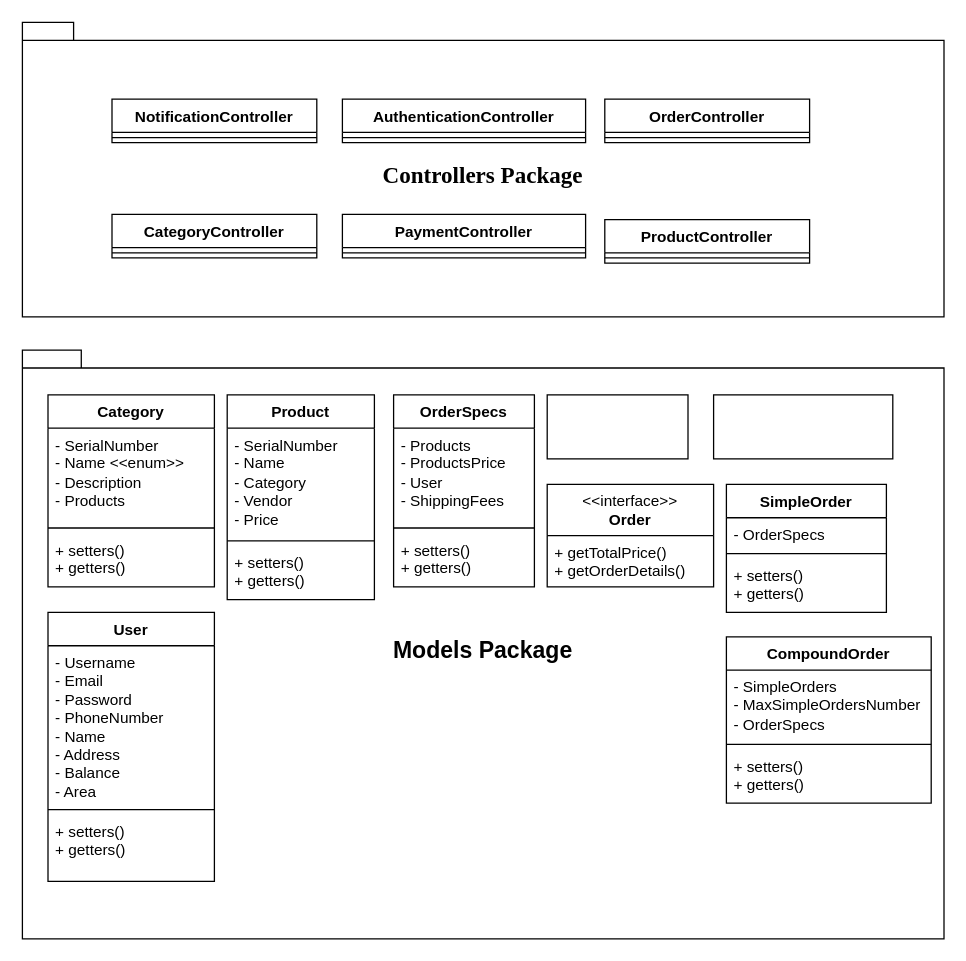
Some shapes in this 966 by 961 pixel diagram are drawn without their labels. Here are the shapes that lost their labels. From the top down, the centre of each, then its label:
At (617,426): "«enum» CategoryName".
At (802,426): "«enum» NotificationChannel".
